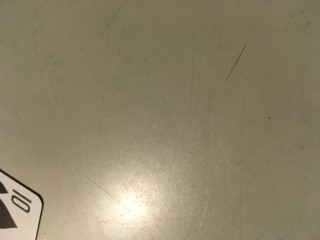TenOfSpades: (1, 172, 43, 240)
